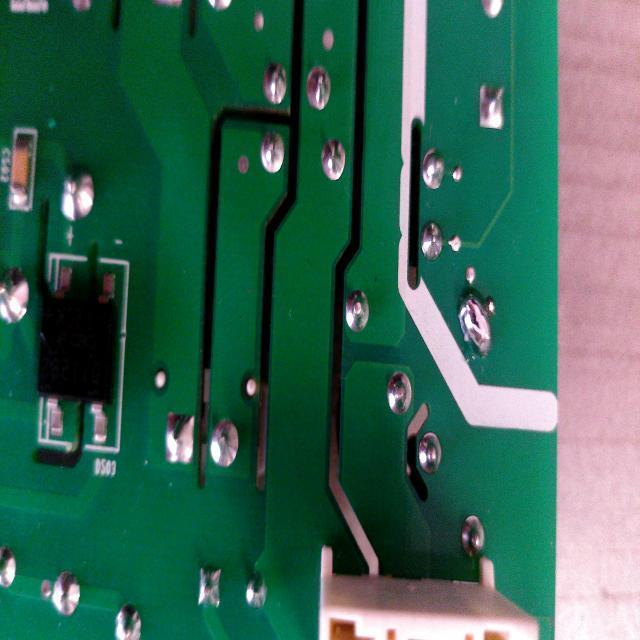Soldering shorted: (457, 276, 497, 362)
